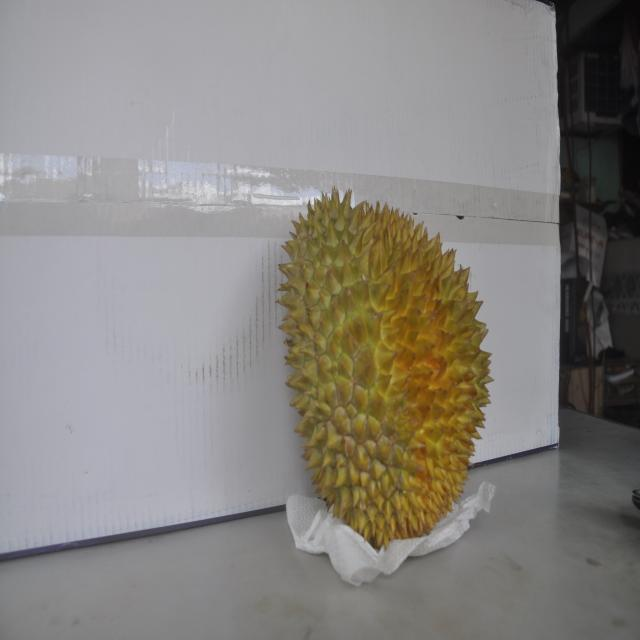mature: (284, 182, 488, 547)
